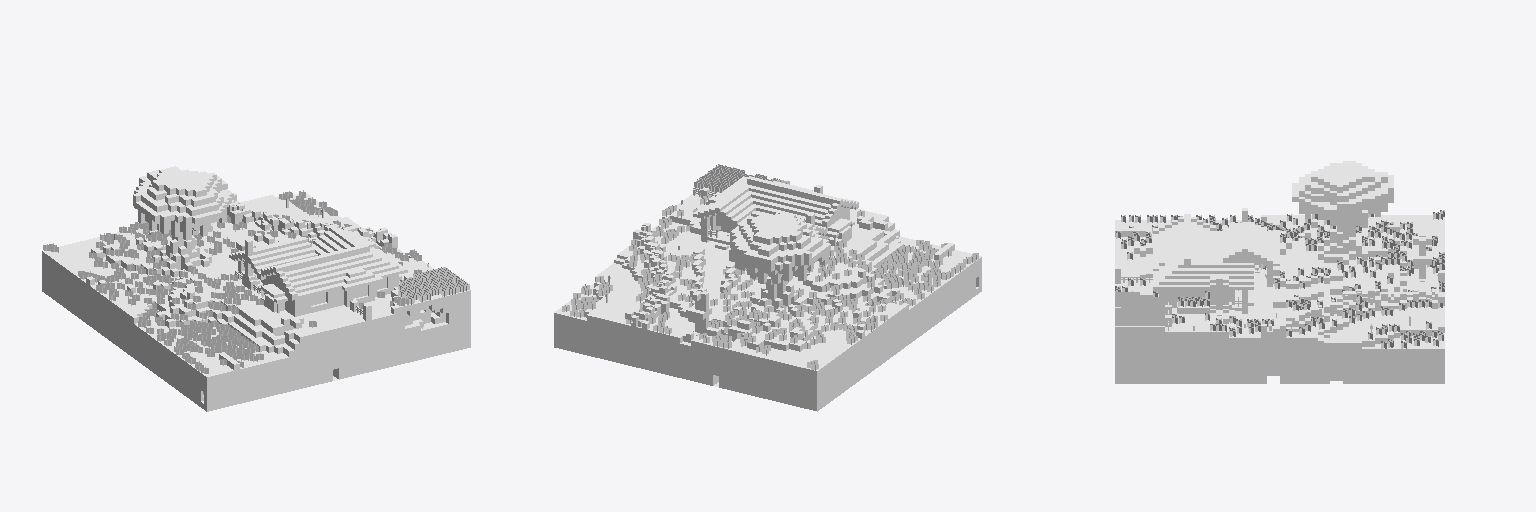
Rendered from windmill.obj.
3 views of the same model, side by side, from view 1: azimuth 30°, elevation 25°; view 2: azimuth 150°, elevation 25°; view 3: azimuth 270°, elevation 25° (orthographic).
Parts seen in each view (by area): view 1: Etho's_LP_Ep550__-297_58_380_to_-250_155_431; view 2: Etho's_LP_Ep550__-297_58_380_to_-250_155_431; view 3: Etho's_LP_Ep550__-297_58_380_to_-250_155_431.
Boxes of the visible parts, box(x1,y1,x2,y2) form: Etho's_LP_Ep550__-297_58_380_to_-250_155_431: box(42, 166, 470, 411); Etho's_LP_Ep550__-297_58_380_to_-250_155_431: box(554, 164, 981, 411); Etho's_LP_Ep550__-297_58_380_to_-250_155_431: box(1115, 161, 1444, 383).
Bounding box in the file's own units: 48.15 × 22 × 52.12.